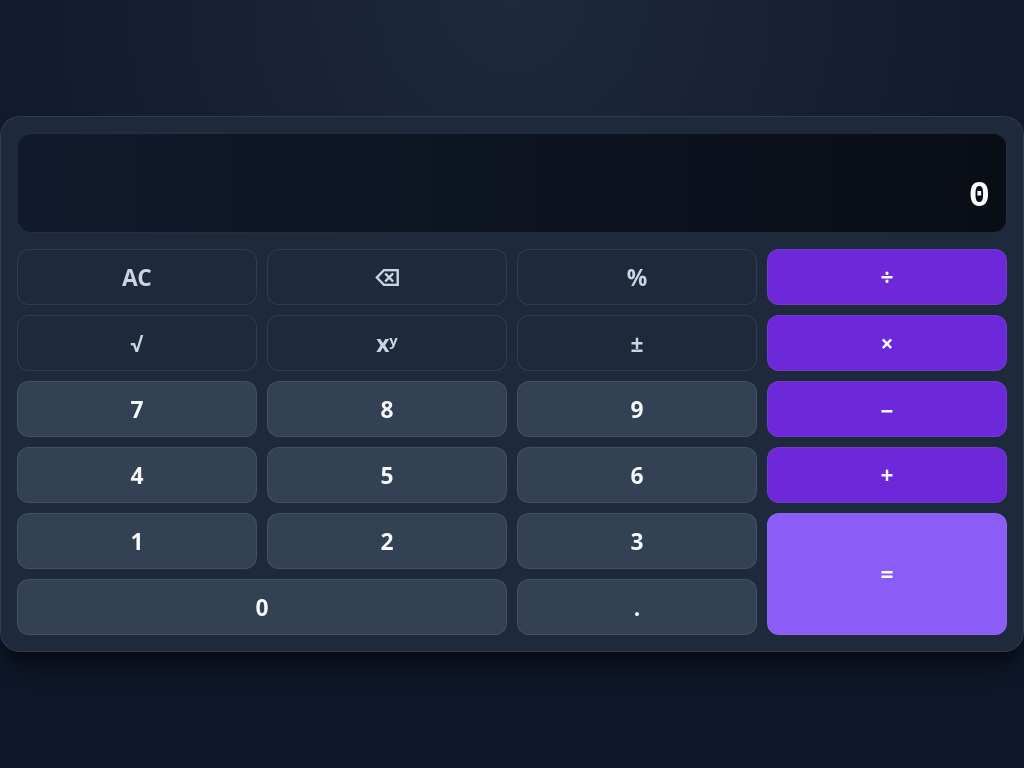
Calculator integration (UI + useCalculator + API client) › evaluates `1 2 + 3 =` -> `15` via POST /api/v1/add {"a":12,"b":3}
The width and height of the screenshot is (1024, 768).
What coordinates should you click on to do the following:
click the button "1"
I would click on:
 (137, 541)
Its box is 17,513 -> 257,569.
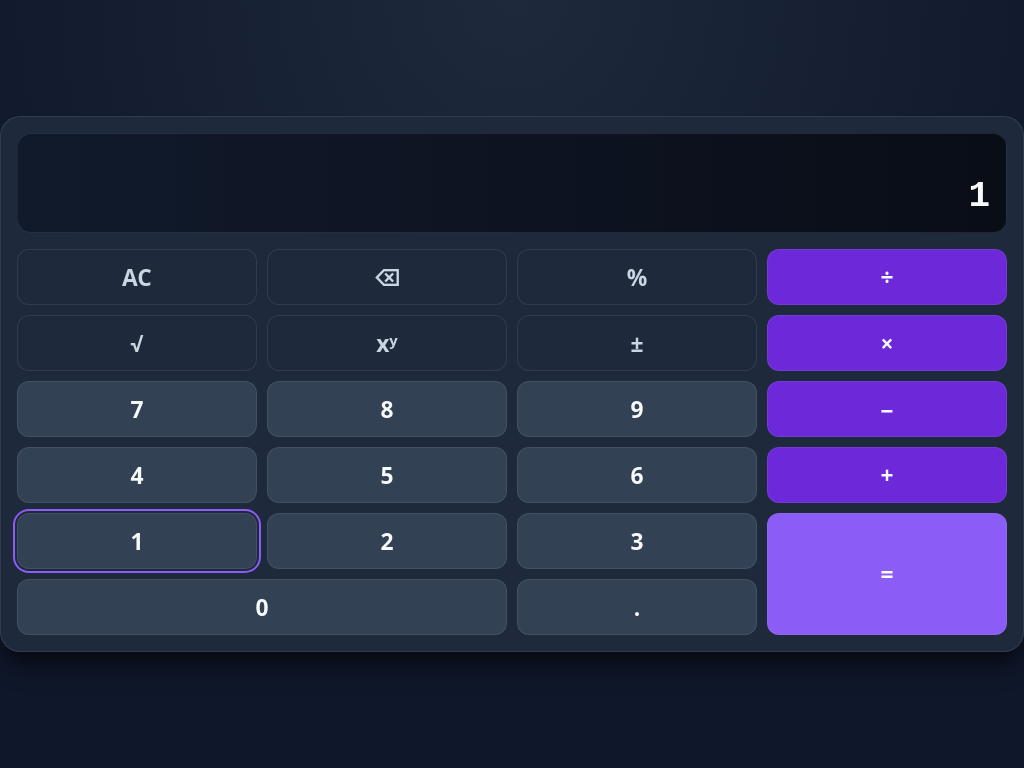
What coordinates should you click on to do the following:
click the button "2"
I would click on:
 (387, 541)
Its box is 267,513 -> 507,569.
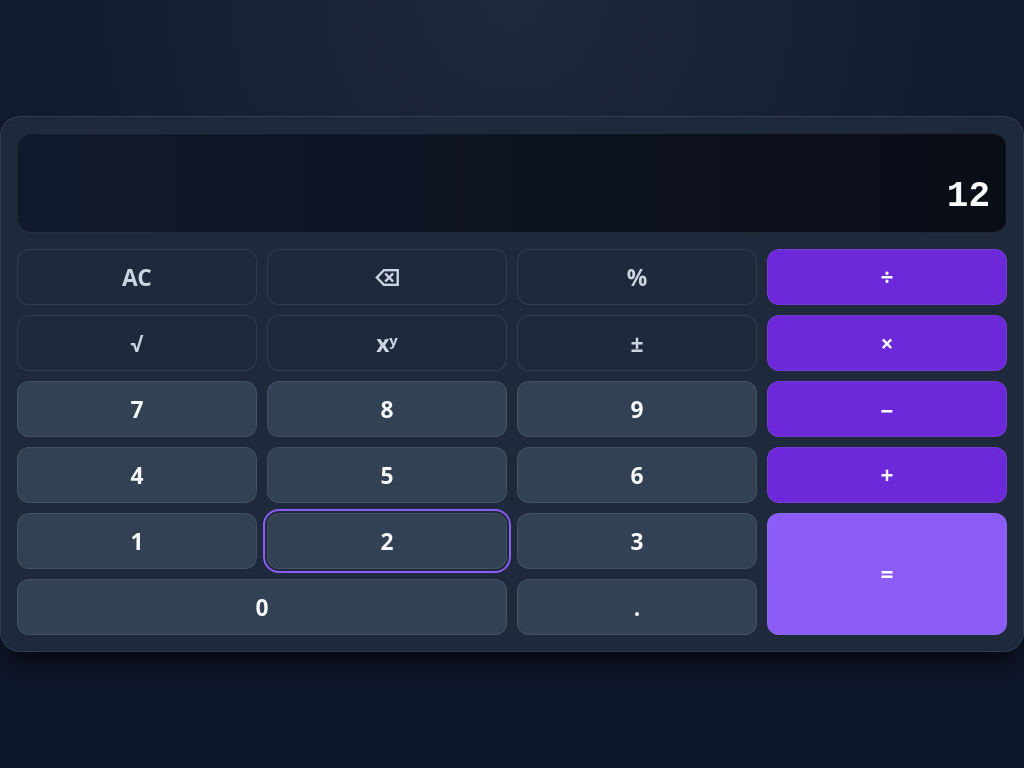
expect the text with test id "calculator-display" reads "12": met, box 947,176 -> 990,217
What coordinates should you click on to do the following:
click the button named "add"
I would click on:
 (887, 475)
Its box is 767,447 -> 1007,503.
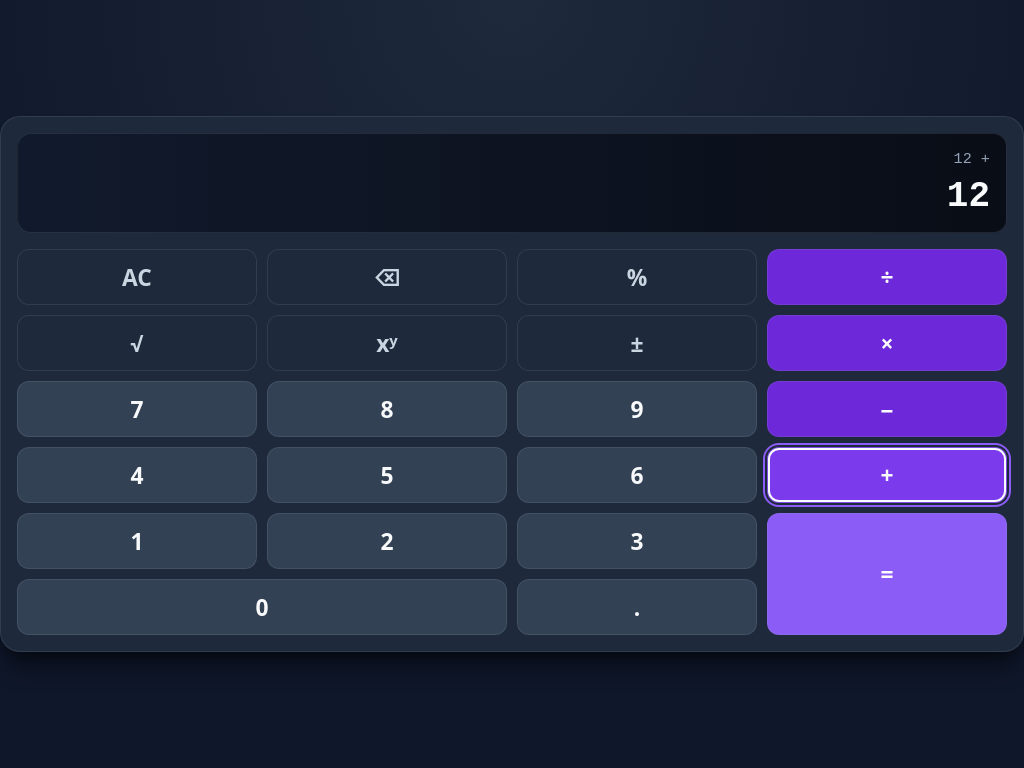
expect the text with test id "calculator-expression" reads "12 +": met, box 954,150 -> 990,168
What coordinates should you click on to do the following:
click the button "3"
I would click on:
 (637, 541)
Its box is 517,513 -> 757,569.
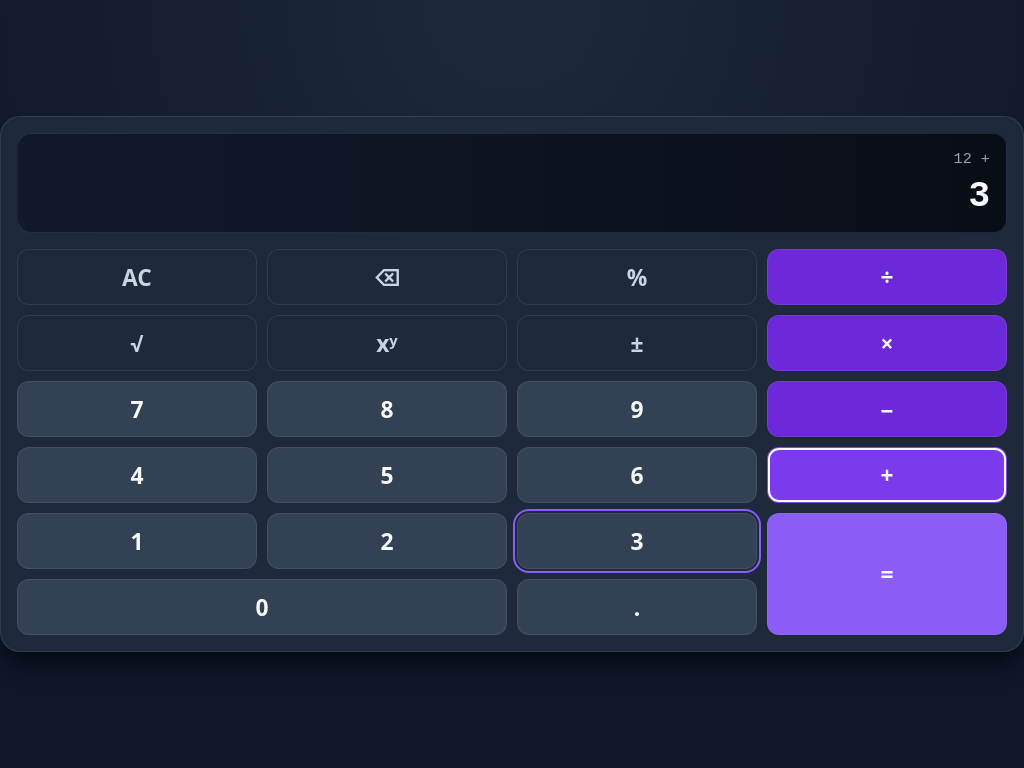
What coordinates should you click on to do the following:
click the button named "equals"
I would click on:
 (887, 574)
Its box is 767,513 -> 1007,635.
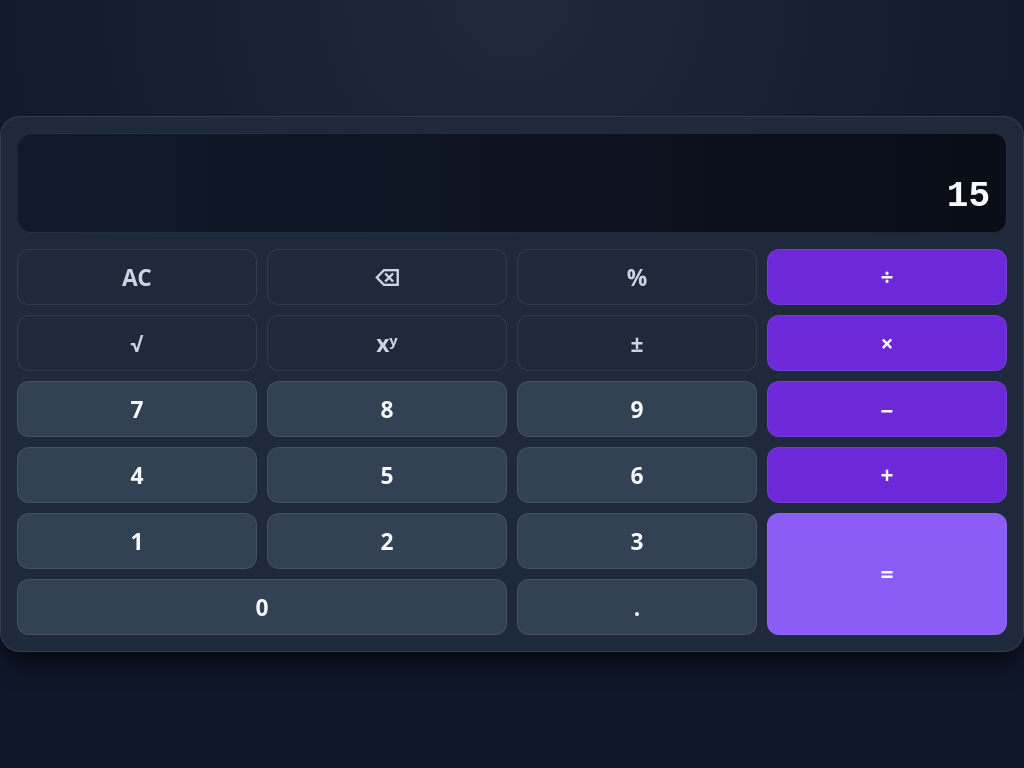
expect the text with test id "calculator-display" reads "15": met, box 947,176 -> 990,217
